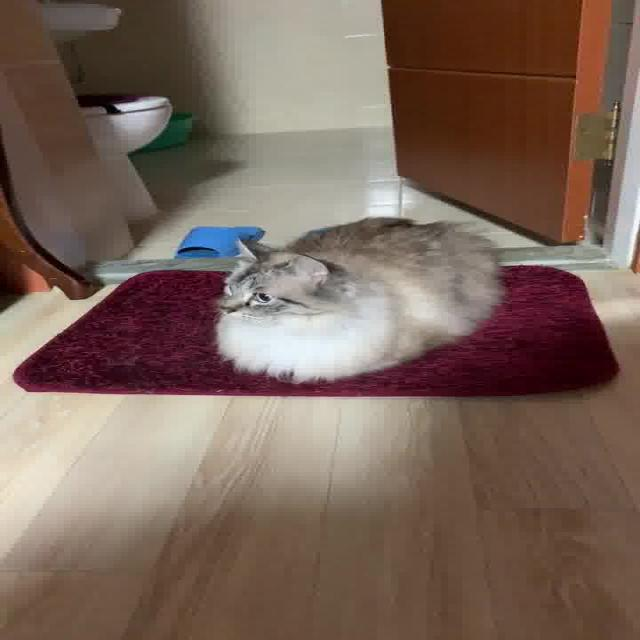cat: (206, 212, 513, 386)
